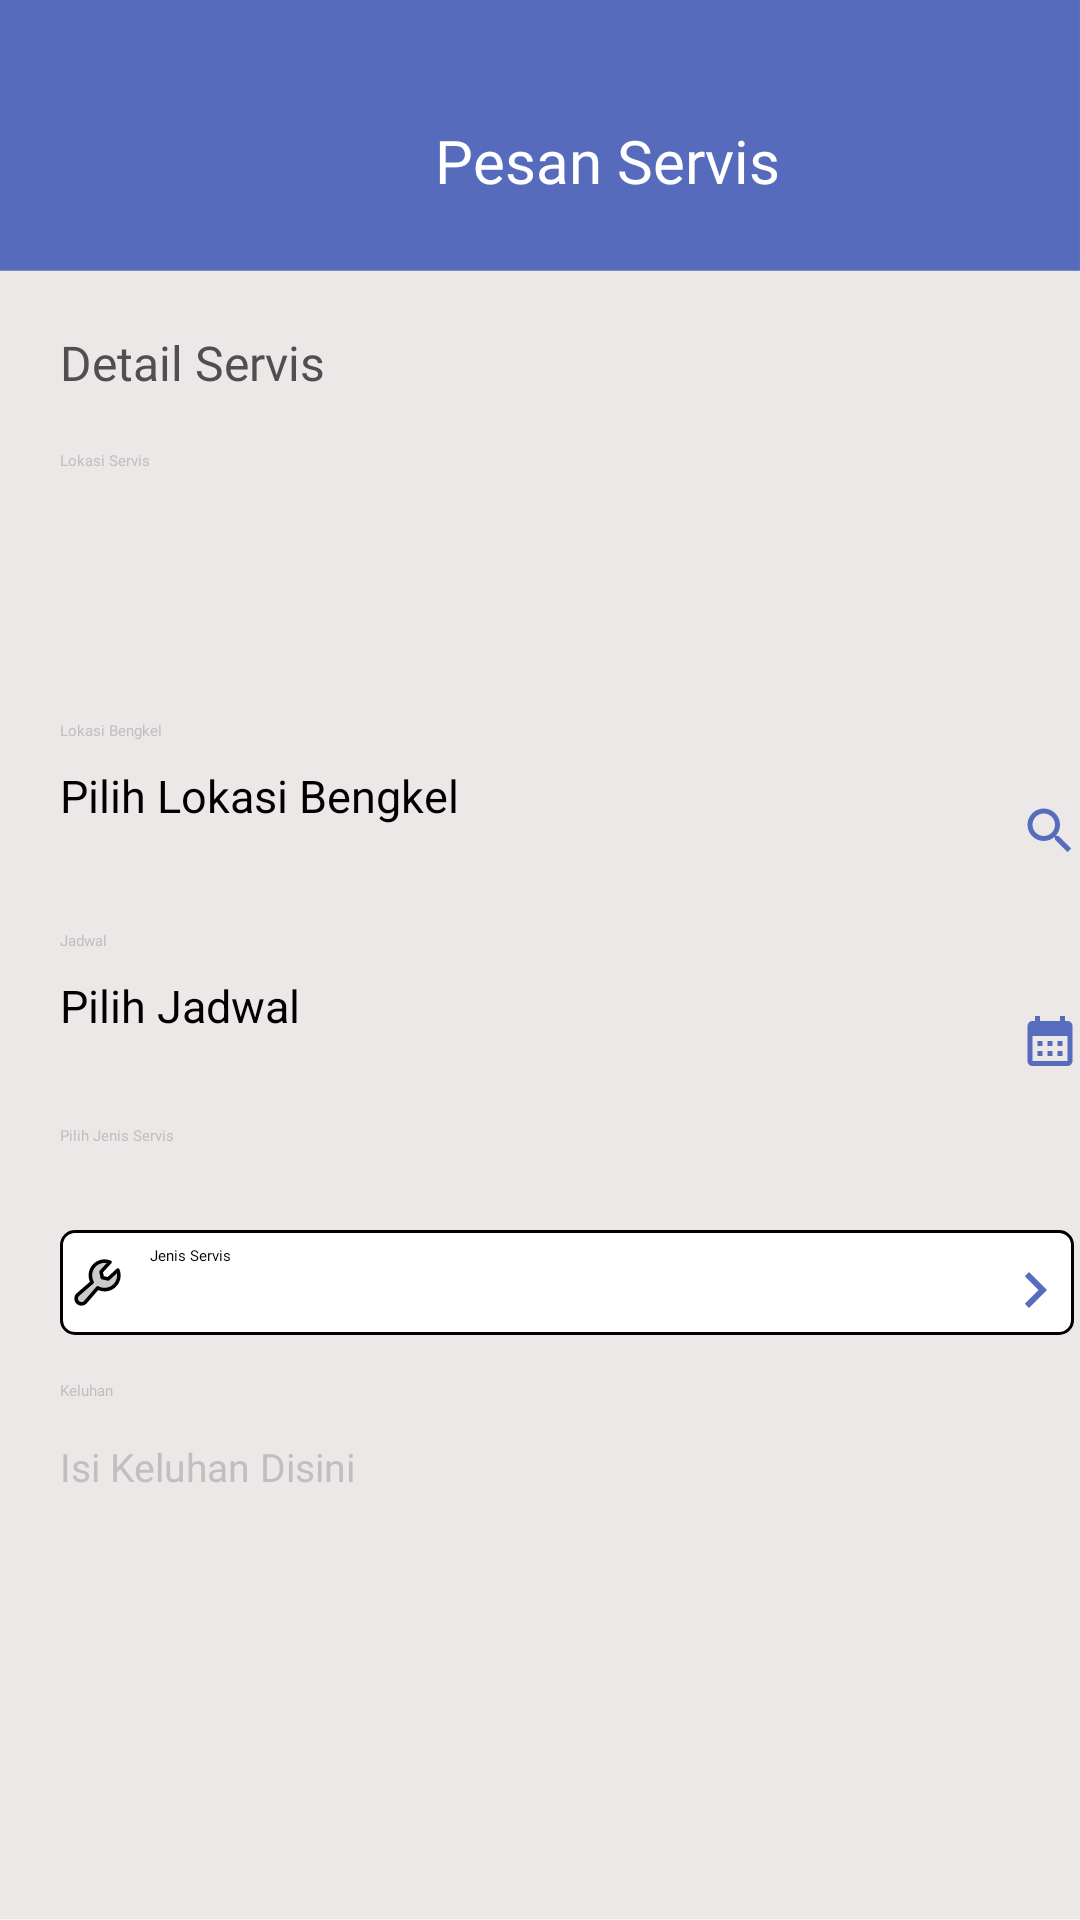

Screen size 1080px x 1920px. Icon name, then its box in pixels as rect(x1, y1, x2, y2):
calendar month: rect(1027, 1016, 1073, 1066)
search: rect(1027, 808, 1071, 852)
